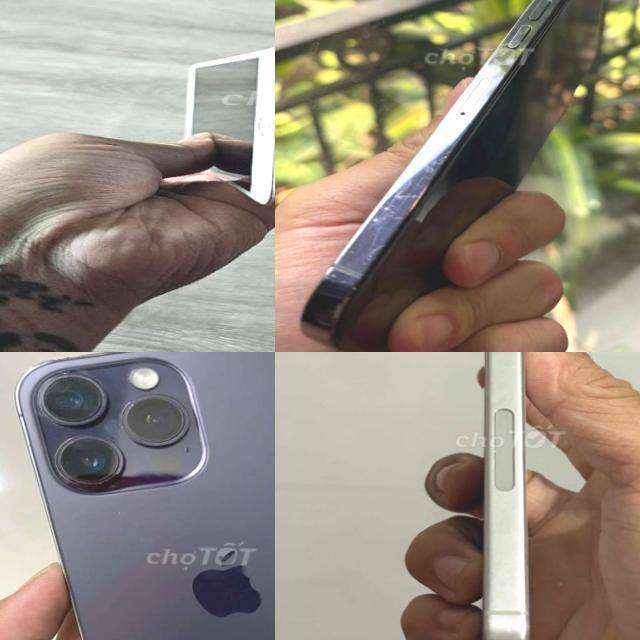scratch: (338, 189, 424, 281), (106, 388, 202, 459), (26, 369, 111, 432), (294, 280, 367, 340), (394, 142, 466, 188), (476, 33, 538, 84), (256, 184, 275, 204)
